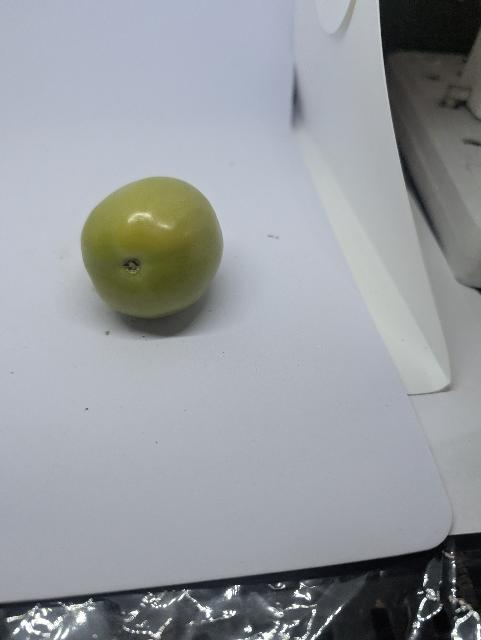green: (77, 172, 228, 321)
